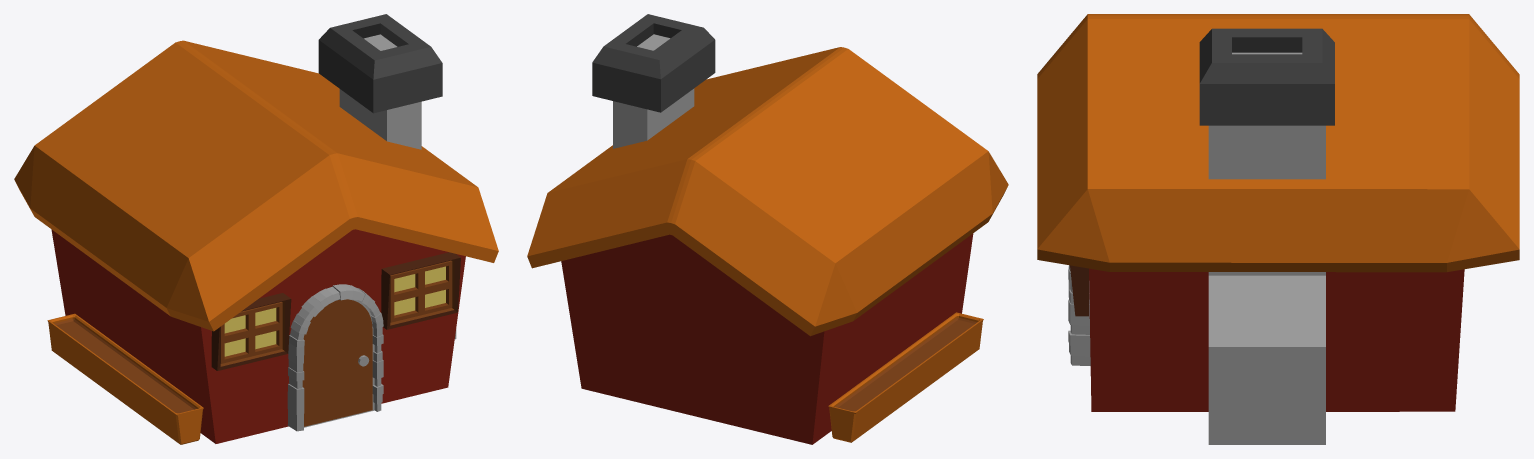
File: SagradoCasaVermelha1.fbx
3 renders of one model, left to right at view 1: azimuth 30°, elevation 25°; view 2: azimuth 150°, elevation 25°; view 3: azimuth 270°, elevation 25°, orthographic. The views are drawn at different scales.
Visible parts, largest first — view 1: CasaVermelha1; view 2: CasaVermelha1; view 3: CasaVermelha1.
Part boxes in pixels (<box>): CasaVermelha1: <box>14,14,498,444</box>; CasaVermelha1: <box>527,14,1008,444</box>; CasaVermelha1: <box>1037,14,1519,444</box>.
Size of the model in its own units: 951 by 821 by 975.
